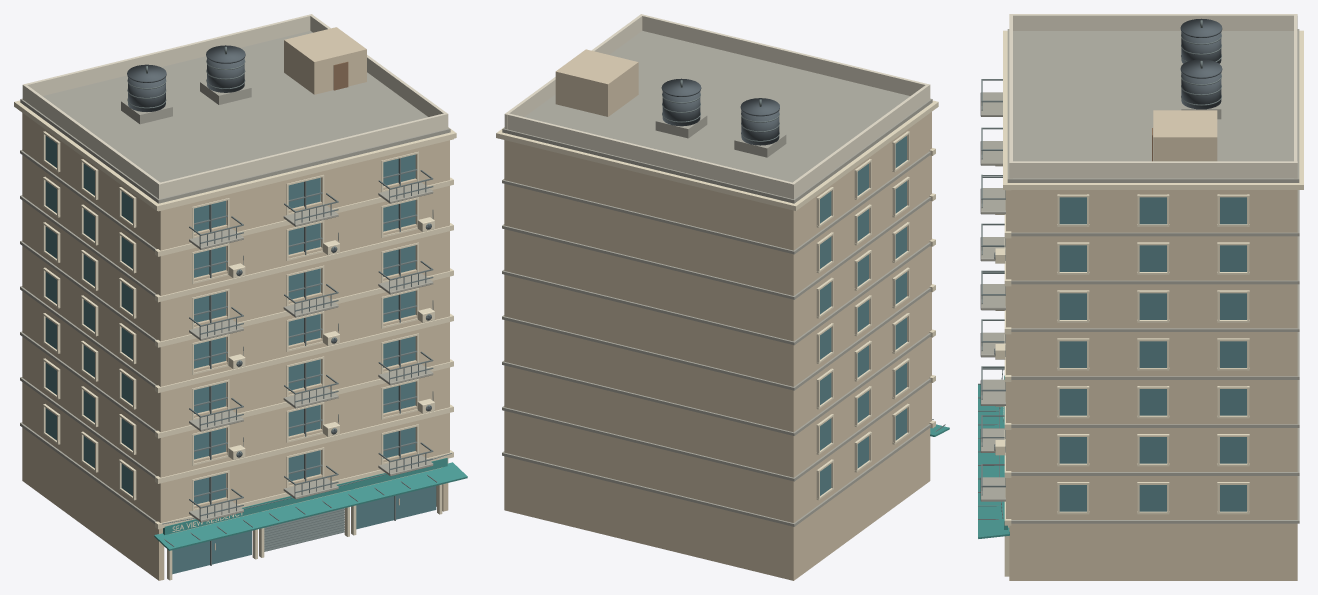
The model's file is apartment.glb.
The picture shows the model from 3 angles, left to right: view 1: azimuth 30°, elevation 25°; view 2: azimuth 150°, elevation 25°; view 3: azimuth 270°, elevation 25°; orthographic projection. The views are drawn at different scales.
Parts seen in each view (by area): view 1: apartment_PLASTER, apartment_CONCRETE, apartment_CREAM, apartment_GLASS, apartment_PLASTER_LIGHT, apartment_METAL, apartment_AWNING, apartment_TANK, apartment_SHUTTER; view 2: apartment_PLASTER, apartment_CONCRETE, apartment_PLASTER_LIGHT, apartment_CREAM, apartment_GLASS, apartment_TANK; view 3: apartment_PLASTER, apartment_CONCRETE, apartment_GLASS, apartment_CREAM, apartment_PLASTER_LIGHT, apartment_TANK, apartment_AWNING, apartment_METAL.
Boxes of the visible parts, left/top/right/bottom form: apartment_PLASTER: left=22, top=27, right=449, bottom=580; apartment_CONCRETE: left=20, top=31, right=450, bottom=524; apartment_CREAM: left=14, top=100, right=456, bottom=580; apartment_GLASS: left=45, top=136, right=436, bottom=574; apartment_PLASTER_LIGHT: left=22, top=14, right=448, bottom=199; apartment_METAL: left=127, top=46, right=451, bottom=565; apartment_AWNING: left=154, top=458, right=467, bottom=550; apartment_TANK: left=127, top=45, right=431, bottom=457; apartment_SHUTTER: left=264, top=508, right=344, bottom=550; apartment_PLASTER: left=504, top=49, right=931, bottom=580; apartment_CONCRETE: left=502, top=31, right=932, bottom=526; apartment_PLASTER_LIGHT: left=504, top=14, right=930, bottom=199; apartment_CREAM: left=496, top=100, right=938, bottom=500; apartment_GLASS: left=820, top=136, right=906, bottom=495; apartment_TANK: left=661, top=78, right=779, bottom=145; apartment_PLASTER: left=1006, top=110, right=1297, bottom=580; apartment_CONCRETE: left=980, top=29, right=1299, bottom=523; apartment_GLASS: left=1059, top=197, right=1246, bottom=511; apartment_CREAM: left=995, top=30, right=1303, bottom=576; apartment_PLASTER_LIGHT: left=1009, top=14, right=1297, bottom=178; apartment_TANK: left=994, top=18, right=1222, bottom=450; apartment_AWNING: left=978, top=375, right=1009, bottom=538; apartment_METAL: left=978, top=20, right=1221, bottom=519.
Bounding box in the file's own units: 22.8 × 31.15 × 20.35.
